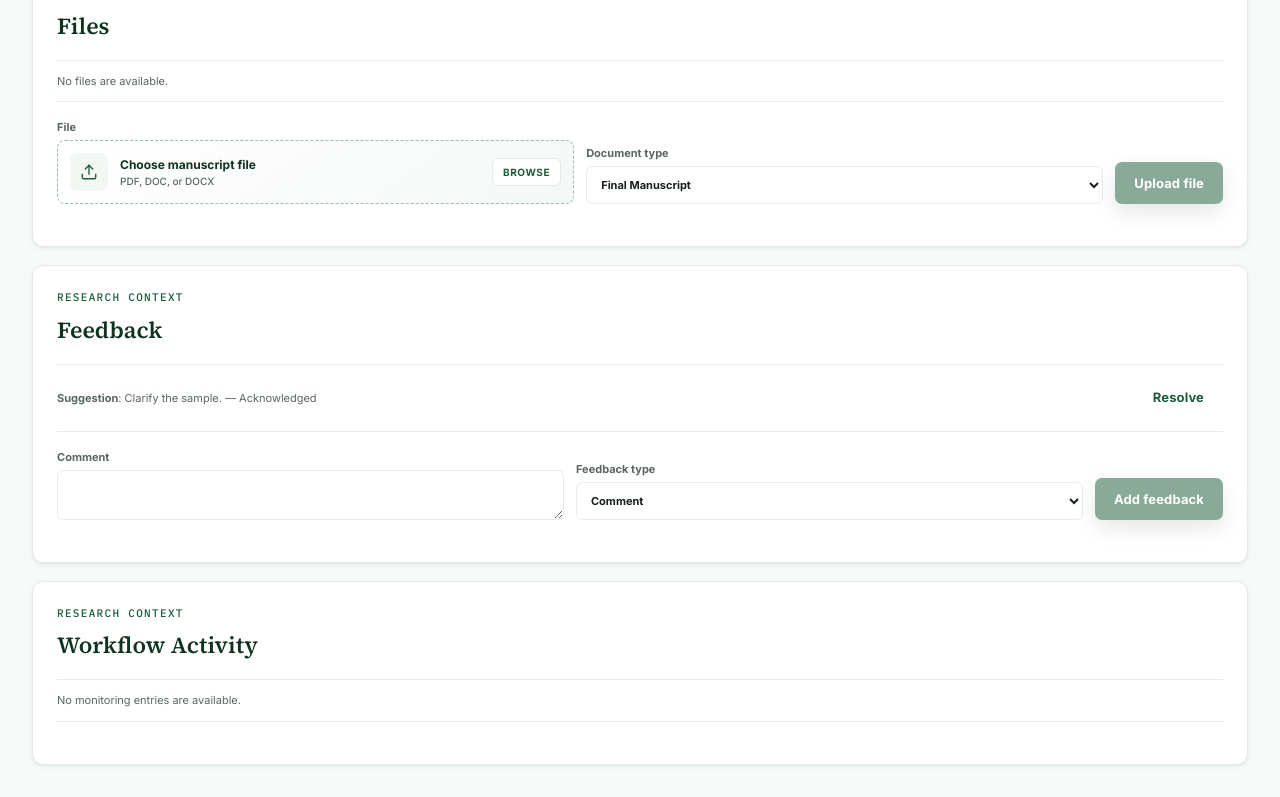
AdminResearchWorkspace › allows acknowledged feedback to be resolved, then hides its actions
(page scrolled)
What coordinates should you click on to do the following:
click the button "Resolve"
I would click on:
 (1178, 398)
Its box is [1134,377,1223,419].
(page scrolled)
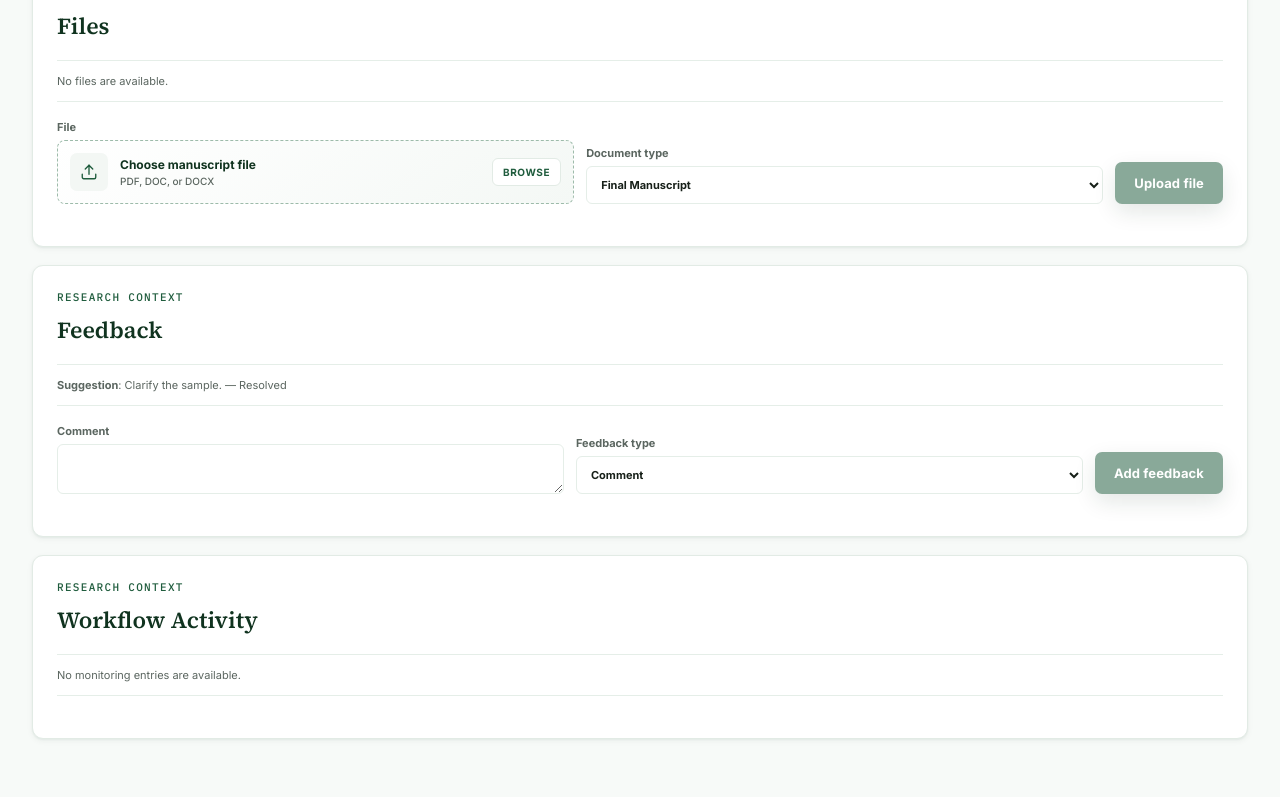
expect the text "Suggestion: Clarify the sample. — Resolved" is shown: met, box [57,377,287,393]
expect the button "Acknowledge" is gone: met
